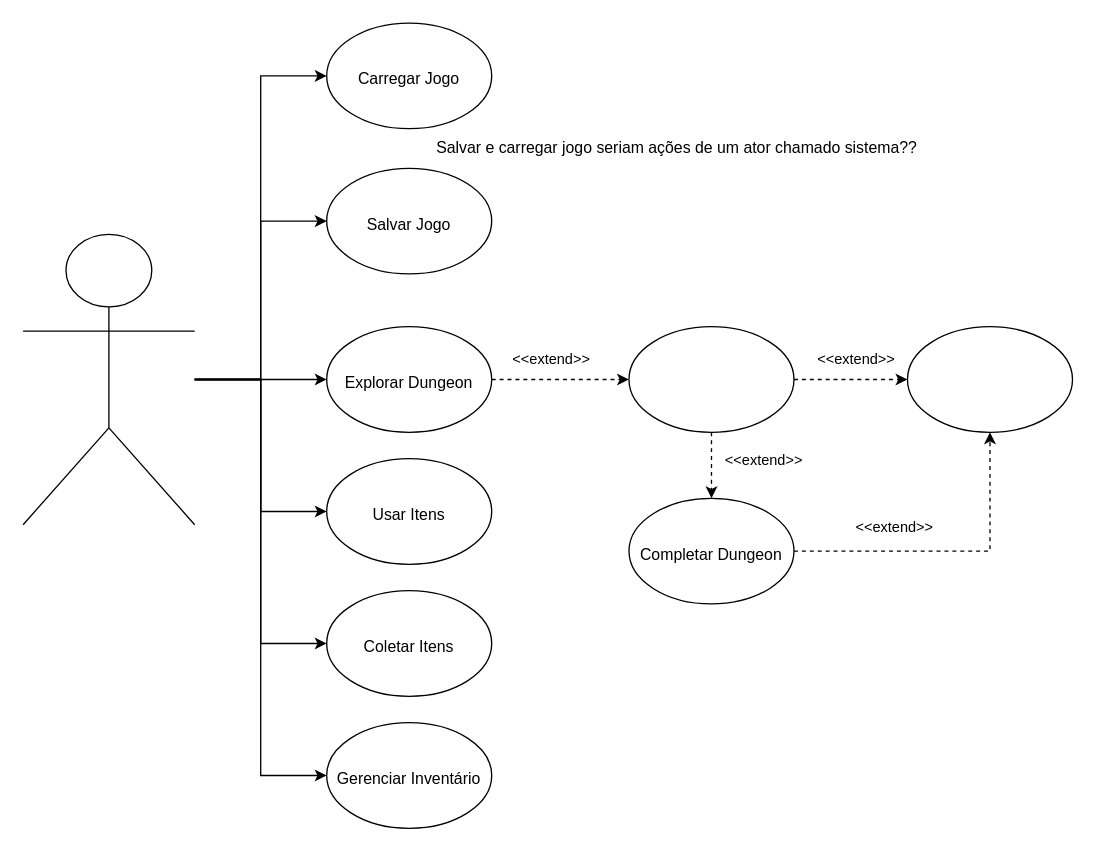
Some shapes in this 1096 by 851 pixel diagram are drawn without their labels. Here are the shapes that lost their labels. From the top down, the box of each, then its label:
(22, 233, 195, 525): Jogador
(628, 325, 794, 432): Combater Inimigo
(906, 325, 1072, 432): Subir de Nível
